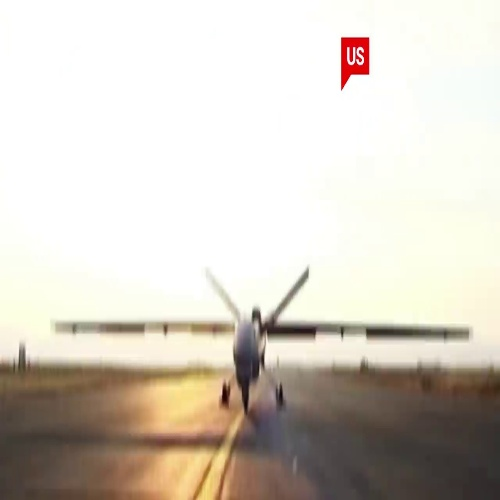uav: (45, 264, 471, 417)
